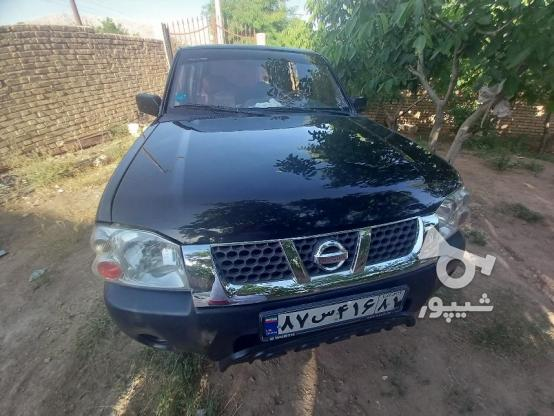car: (257, 284, 413, 347)
